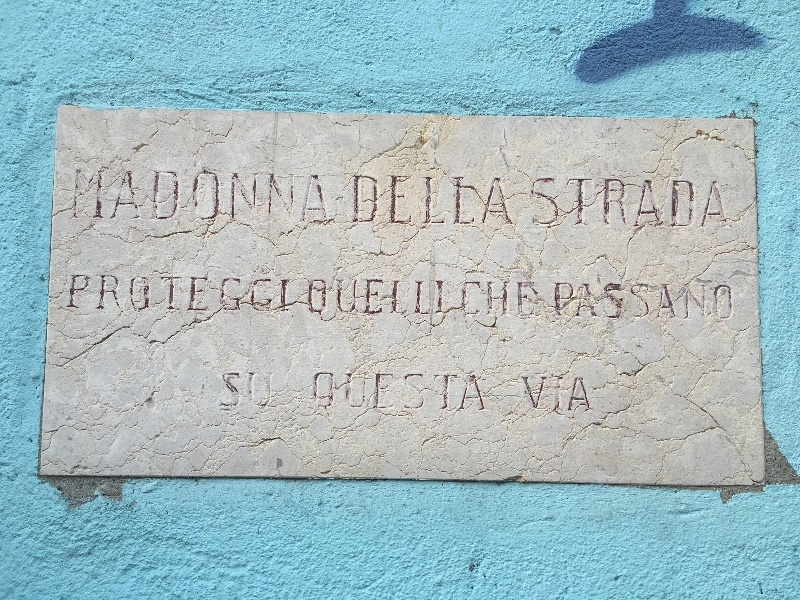text: (81, 167, 96, 228), (97, 167, 112, 228), (113, 167, 128, 228), (129, 167, 144, 228), (145, 167, 160, 228), (161, 167, 176, 228), (177, 167, 192, 228), (193, 167, 208, 228), (209, 167, 224, 228), (225, 167, 240, 228), (241, 167, 256, 228), (257, 167, 272, 228), (273, 167, 288, 228), (289, 167, 304, 228), (305, 167, 320, 228), (529, 175, 544, 231), (545, 175, 560, 231), (561, 175, 576, 231), (577, 175, 592, 231), (593, 175, 608, 231), (609, 175, 624, 231), (625, 175, 640, 231), (641, 175, 656, 231), (657, 175, 672, 231), (673, 175, 688, 231), (689, 175, 704, 231), (705, 175, 720, 231), (353, 174, 368, 228), (369, 174, 384, 228), (385, 174, 400, 228), (401, 174, 416, 228), (417, 174, 432, 228), (433, 174, 448, 228), (449, 174, 464, 228), (465, 174, 480, 228), (481, 174, 496, 228), (497, 174, 512, 228), (81, 272, 96, 316), (97, 272, 112, 316), (113, 272, 128, 316), (129, 272, 144, 316), (145, 272, 160, 316), (161, 272, 176, 316), (177, 272, 192, 316), (193, 272, 208, 316), (209, 272, 224, 316), (225, 272, 240, 316), (241, 272, 256, 316), (257, 272, 272, 316), (273, 272, 288, 316), (561, 279, 576, 323), (577, 279, 592, 323), (593, 279, 608, 323), (609, 279, 624, 323), (625, 279, 640, 323), (641, 279, 656, 323), (657, 279, 672, 323), (673, 279, 688, 323), (689, 279, 704, 323), (705, 279, 720, 323), (321, 371, 336, 415), (337, 371, 352, 415), (353, 371, 368, 415), (369, 371, 384, 415), (385, 371, 400, 415), (401, 371, 416, 415), (417, 371, 432, 415), (433, 371, 448, 415), (449, 371, 464, 415), (465, 371, 480, 415), (465, 279, 480, 320), (481, 279, 496, 320), (497, 279, 512, 320), (513, 279, 528, 320), (225, 370, 240, 411), (241, 370, 256, 411), (257, 370, 272, 411), (321, 278, 336, 318), (337, 278, 352, 318), (353, 278, 368, 318), (369, 278, 384, 318), (385, 278, 400, 318), (401, 278, 416, 318), (417, 278, 432, 318), (529, 375, 544, 415), (545, 375, 560, 415), (561, 375, 576, 415), (577, 375, 592, 415), (721, 279, 734, 323), (721, 175, 731, 231), (321, 167, 330, 228), (433, 278, 446, 318), (308, 278, 320, 318), (71, 272, 80, 316), (520, 375, 528, 415), (553, 279, 560, 323), (313, 371, 320, 415), (481, 371, 488, 415), (75, 167, 80, 228), (529, 279, 536, 320), (273, 370, 277, 411), (513, 174, 516, 228), (221, 370, 224, 411), (289, 272, 291, 316), (462, 279, 464, 320), (351, 174, 352, 228), (593, 375, 594, 415)
